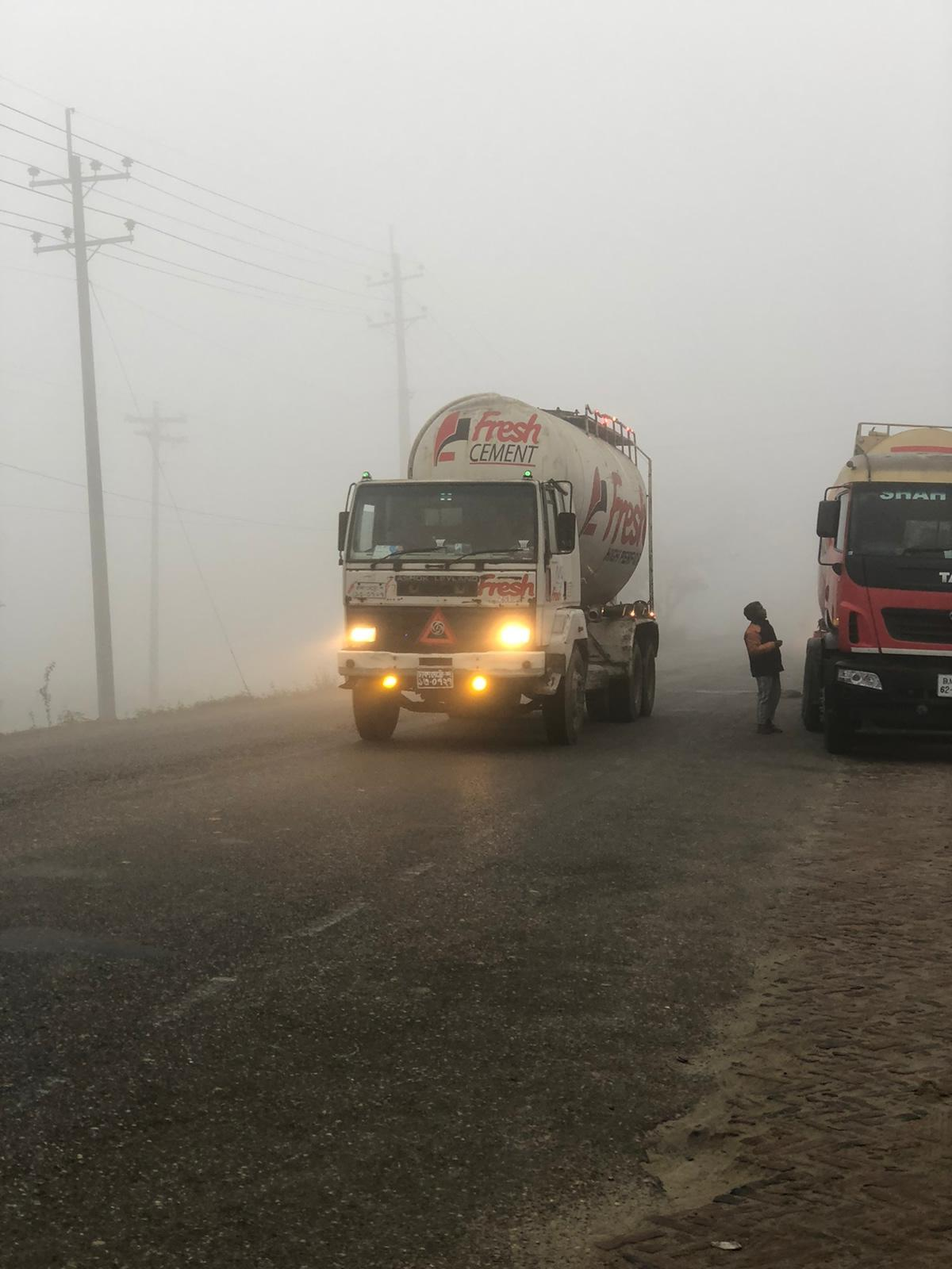Truck: (316, 382, 673, 744), (803, 403, 952, 807)
